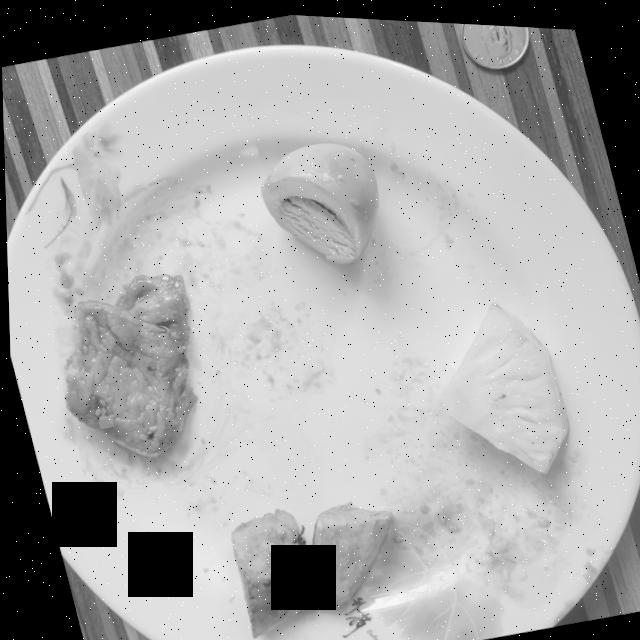coin: (460, 19, 529, 62)
creamy tofu: (62, 271, 194, 455)
fried potato: (227, 498, 389, 634)
pineapple: (440, 297, 566, 466)
soy egg: (259, 138, 377, 259)
